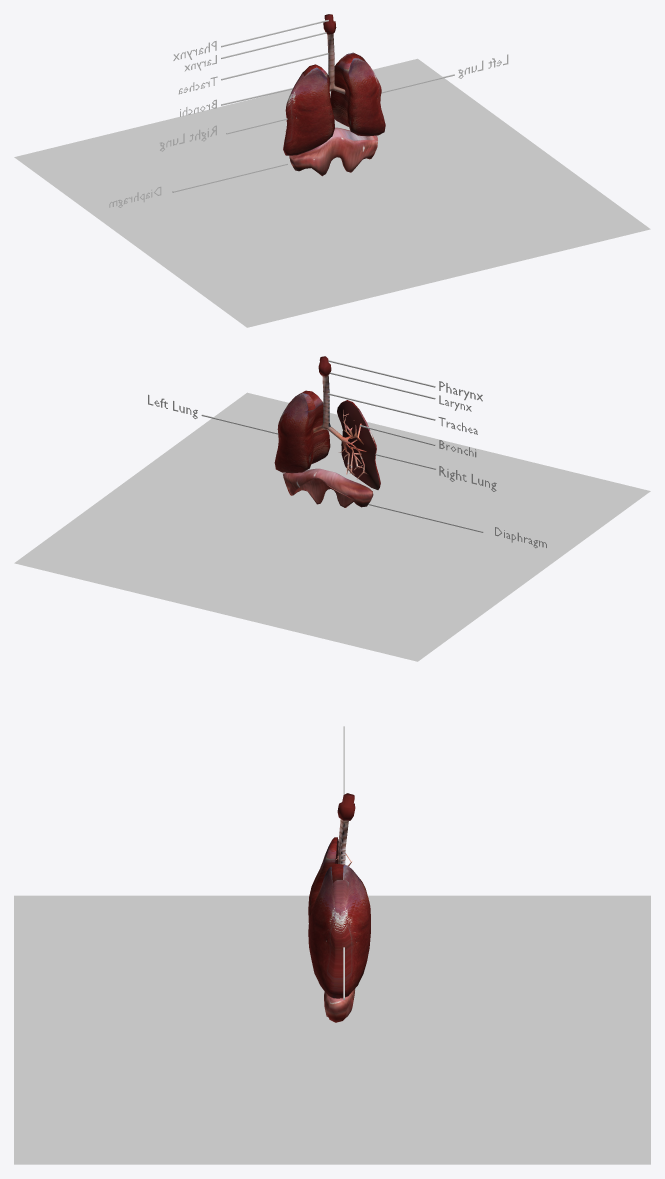
Rendered from respiratorySystem.fbx.
3 renders of one model, top to bottom at view 1: azimuth 30°, elevation 25°; view 2: azimuth 150°, elevation 25°; view 3: azimuth 270°, elevation 25°, orthographic. The views are drawn at different scales.
Visible parts, largest first — view 1: Plane, right lung, left lung, Cube.001, Vert; view 2: Plane, left lung, right lung, Cube.001, Vert; view 3: Plane, left lung, Vert, right lung, Cube.001.
Boxes of the visible parts, <box> form: Plane: <box>14,58,650,327</box>; right lung: <box>283,64,334,155</box>; left lung: <box>330,52,385,136</box>; Cube.001: <box>289,127,377,176</box>; Vert: <box>285,14,345,131</box>; Plane: <box>14,392,650,661</box>; left lung: <box>274,390,330,473</box>; right lung: <box>337,400,380,489</box>; Cube.001: <box>283,468,373,507</box>; Vert: <box>313,356,367,479</box>; Plane: <box>14,895,650,1164</box>; left lung: <box>308,863,370,998</box>; Vert: <box>336,793,355,866</box>; right lung: <box>308,837,338,922</box>; Cube.001: <box>324,989,355,1022</box>.
Bounding box in the file's own units: 783 × 314 × 752.
1 material, 1 textured.
